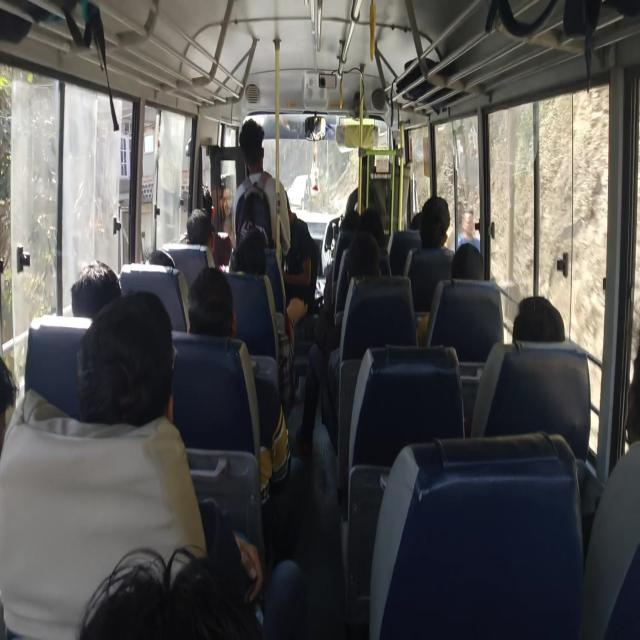person: (133, 538, 261, 640), (99, 291, 169, 410), (514, 298, 578, 376), (277, 185, 314, 318), (136, 242, 213, 287), (609, 363, 640, 453), (421, 200, 458, 265), (235, 242, 278, 296), (238, 124, 269, 198), (193, 274, 228, 334), (80, 258, 116, 311), (184, 212, 224, 257), (346, 230, 381, 278), (246, 198, 279, 244), (0, 359, 17, 436), (452, 237, 481, 278), (339, 205, 373, 228), (412, 206, 441, 230), (194, 178, 213, 209)
